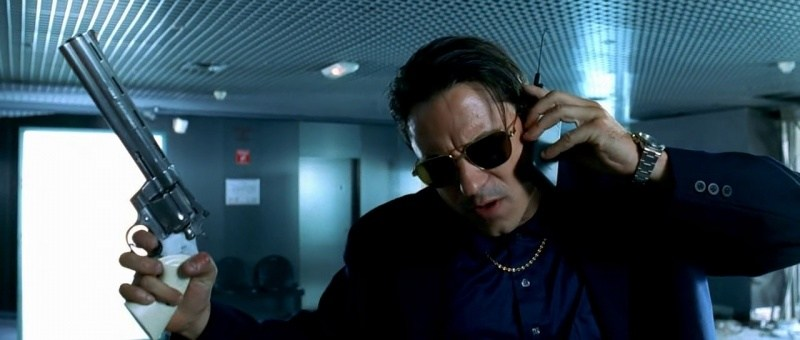Revolver: (30, 17, 249, 338)
